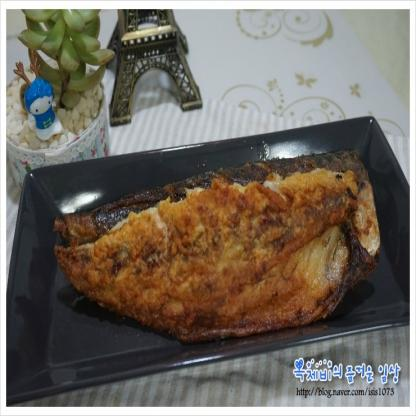Peixe: (51, 147, 385, 352)
